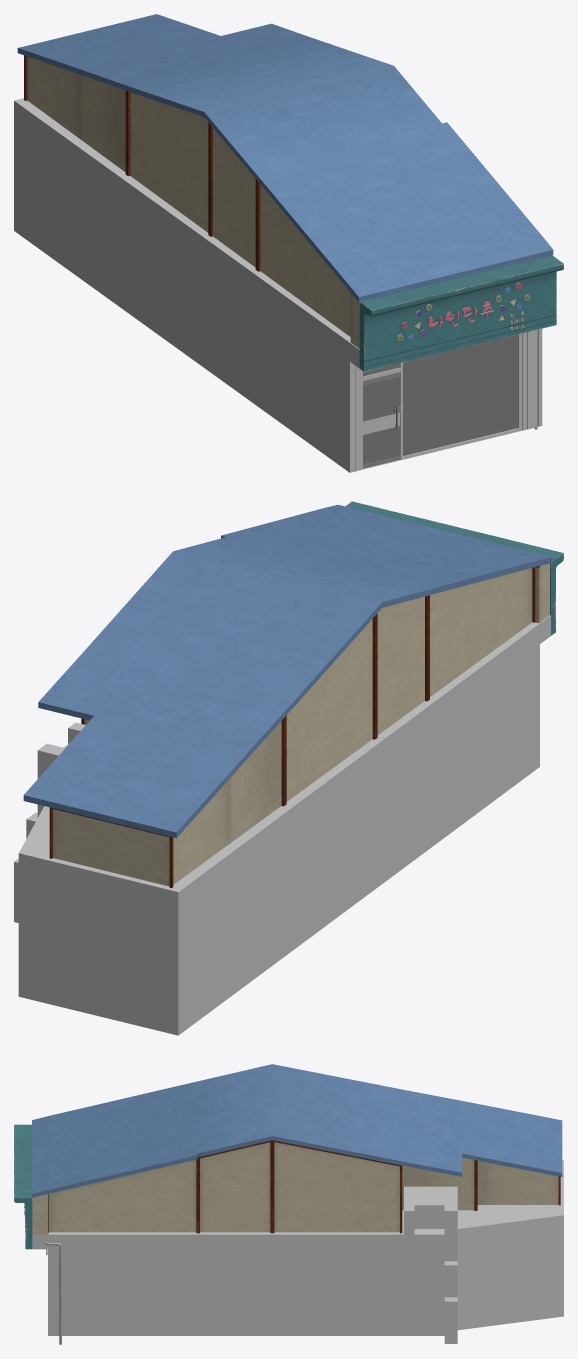
Rendered from NainButtons.fbx.
The picture shows the model from 3 angles, top to bottom: view 1: azimuth 30°, elevation 25°; view 2: azimuth 150°, elevation 25°; view 3: azimuth 270°, elevation 25°; orthographic projection. The views are drawn at different scales.
Visible parts, largest first — view 1: Naindanchoo_Roofset, Naindanchoo_1F, Naindanchoo_Roofset_Glass, DoorGlass; view 2: Naindanchoo_Roofset, Naindanchoo_1F; view 3: Naindanchoo_Roofset, Naindanchoo_1F.
Part boxes in pixels (<box>): Naindanchoo_Roofset: <box>17,14,563,429</box>; Naindanchoo_1F: <box>14,98,542,472</box>; Naindanchoo_Roofset_Glass: <box>363,334,518,455</box>; DoorGlass: <box>363,376,399,464</box>; Naindanchoo_Roofset: <box>23,501,563,888</box>; Naindanchoo_1F: <box>14,615,550,1035</box>; Naindanchoo_Roofset: <box>14,1064,562,1344</box>; Naindanchoo_1F: <box>32,1160,563,1343</box>.
Bounding box in the file's own units: 515 × 600 × 1451.
